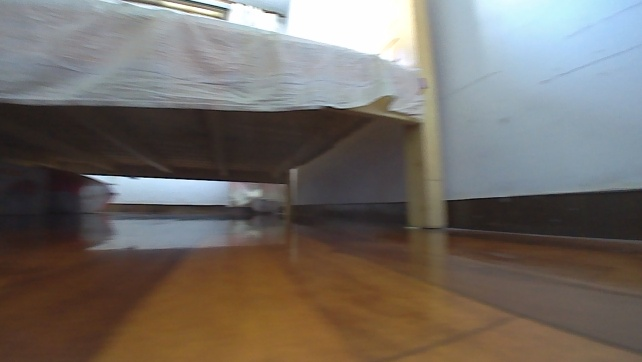bed1: (0, 0, 454, 232)
